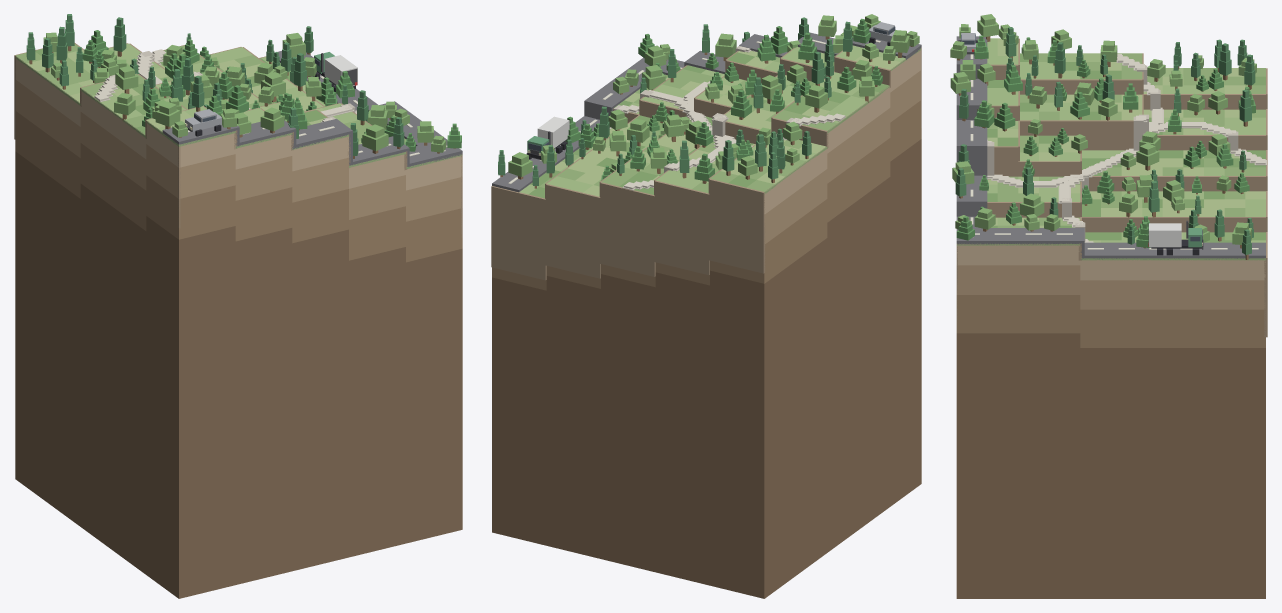
File: block_1_wetlands_0.glb
3 renders of one model, left to right at view 1: azimuth 30°, elevation 25°; view 2: azimuth 150°, elevation 25°; view 3: azimuth 270°, elevation 25°, orthographic. The views are drawn at different scales.
Visible parts, largest first — view 1: Patch_UpperLeft_b02_WL, Ghats_UpperLeft_b02_WL, Roads_UpperLeft_b02_WL, ULCar_009_WL, ULCar_000_WL; view 2: Patch_UpperLeft_b02_WL, Ghats_UpperLeft_b02_WL, Roads_UpperLeft_b02_WL, ULCar_009_WL; view 3: Patch_UpperLeft_b02_WL, Ghats_UpperLeft_b02_WL, Roads_UpperLeft_b02_WL, ULCar_009_WL, RoadMarks_UpperLeft_b02_WL, ULG_T064_WL, ULG_T091_WL, ULG_T001_WL.
Boxes of the visible parts, x1,y1,x2,y2 form: Patch_UpperLeft_b02_WL: [15, 59, 462, 598]; Ghats_UpperLeft_b02_WL: [14, 43, 462, 237]; Roads_UpperLeft_b02_WL: [162, 51, 462, 167]; ULCar_009_WL: [314, 52, 357, 93]; ULCar_000_WL: [185, 109, 221, 136]; Patch_UpperLeft_b02_WL: [492, 50, 921, 598]; Ghats_UpperLeft_b02_WL: [491, 45, 921, 280]; Roads_UpperLeft_b02_WL: [492, 32, 921, 192]; ULCar_009_WL: [526, 116, 569, 159]; Patch_UpperLeft_b02_WL: [956, 244, 1265, 598]; Ghats_UpperLeft_b02_WL: [956, 38, 1267, 337]; Roads_UpperLeft_b02_WL: [956, 36, 1265, 259]; ULCar_009_WL: [1148, 220, 1203, 255]; RoadMarks_UpperLeft_b02_WL: [970, 54, 1258, 249]; ULG_T064_WL: [1136, 143, 1159, 170]; ULG_T091_WL: [1020, 193, 1044, 216]; ULG_T001_WL: [977, 14, 998, 41].
Size of the model in its own units: 9.95 by 15.66 by 9.74.
